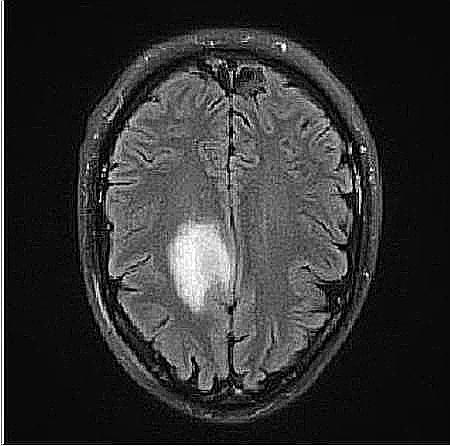Tumor: (157, 217, 249, 318)
